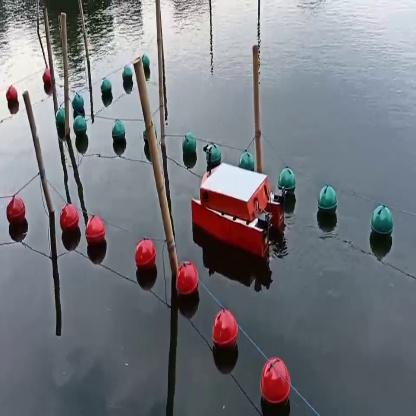green_buoy: (315, 181, 337, 228), (372, 202, 392, 252), (235, 147, 256, 171), (278, 166, 296, 192), (112, 119, 126, 150), (182, 134, 196, 161), (74, 116, 88, 140), (55, 107, 66, 134), (101, 80, 112, 96), (72, 96, 84, 110), (142, 54, 151, 70), (122, 70, 132, 84), (212, 145, 220, 160)
red_buoy: (260, 356, 292, 412), (211, 308, 241, 360), (131, 232, 159, 283), (172, 258, 200, 308), (84, 214, 106, 254), (60, 202, 79, 238), (5, 198, 24, 232), (5, 88, 18, 110), (42, 70, 52, 88)
